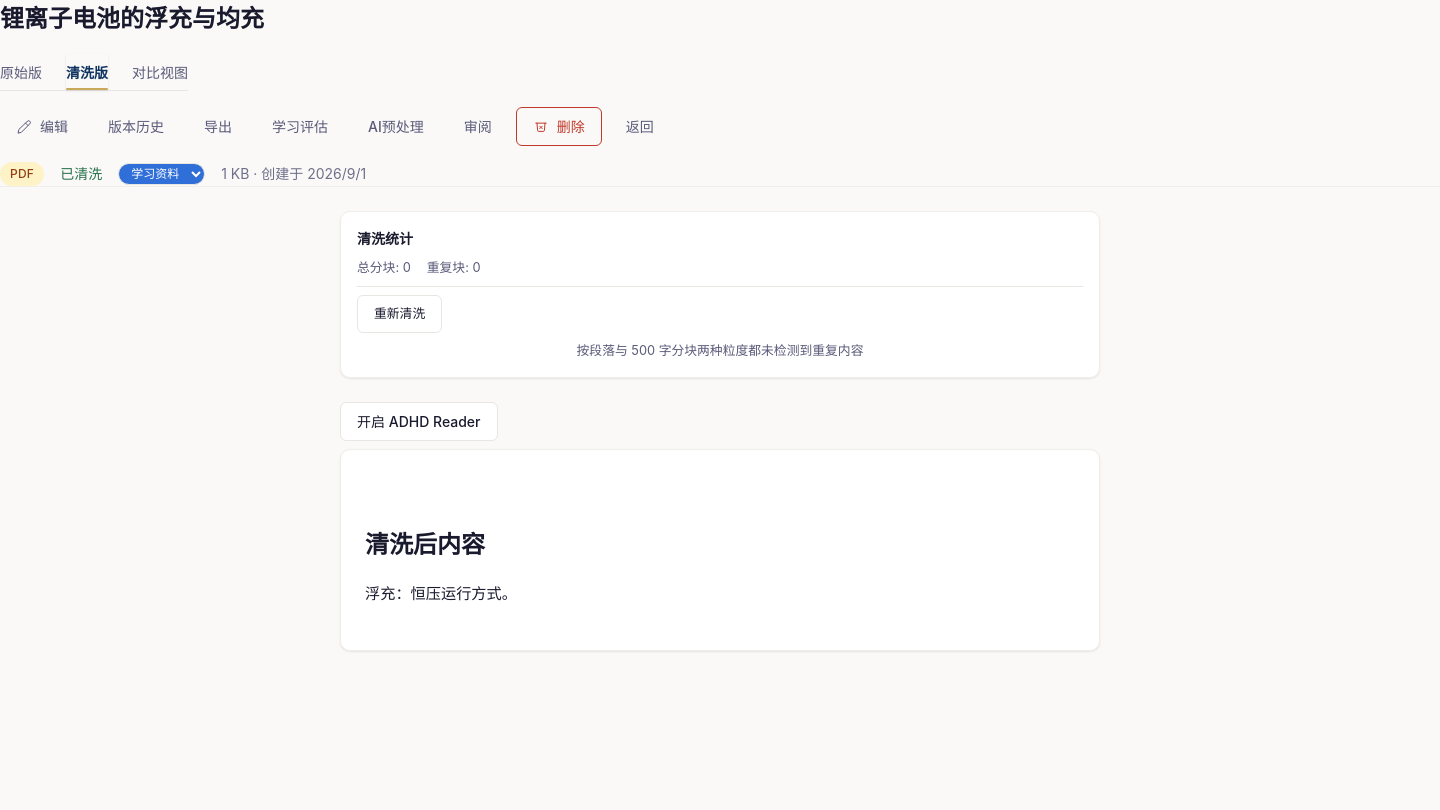
Test case: 删除与重新理解 › ★ 删除必须先确认：点"删除"只弹窗、不调接口
Expected: the heading "锂离子电池的浮充与均充" is shown, [0,0,264,38]
按钮文案是"删除"，"移入回收站"是弹窗标题
Click the button "删除" at (559, 127), box [516,107,602,146]
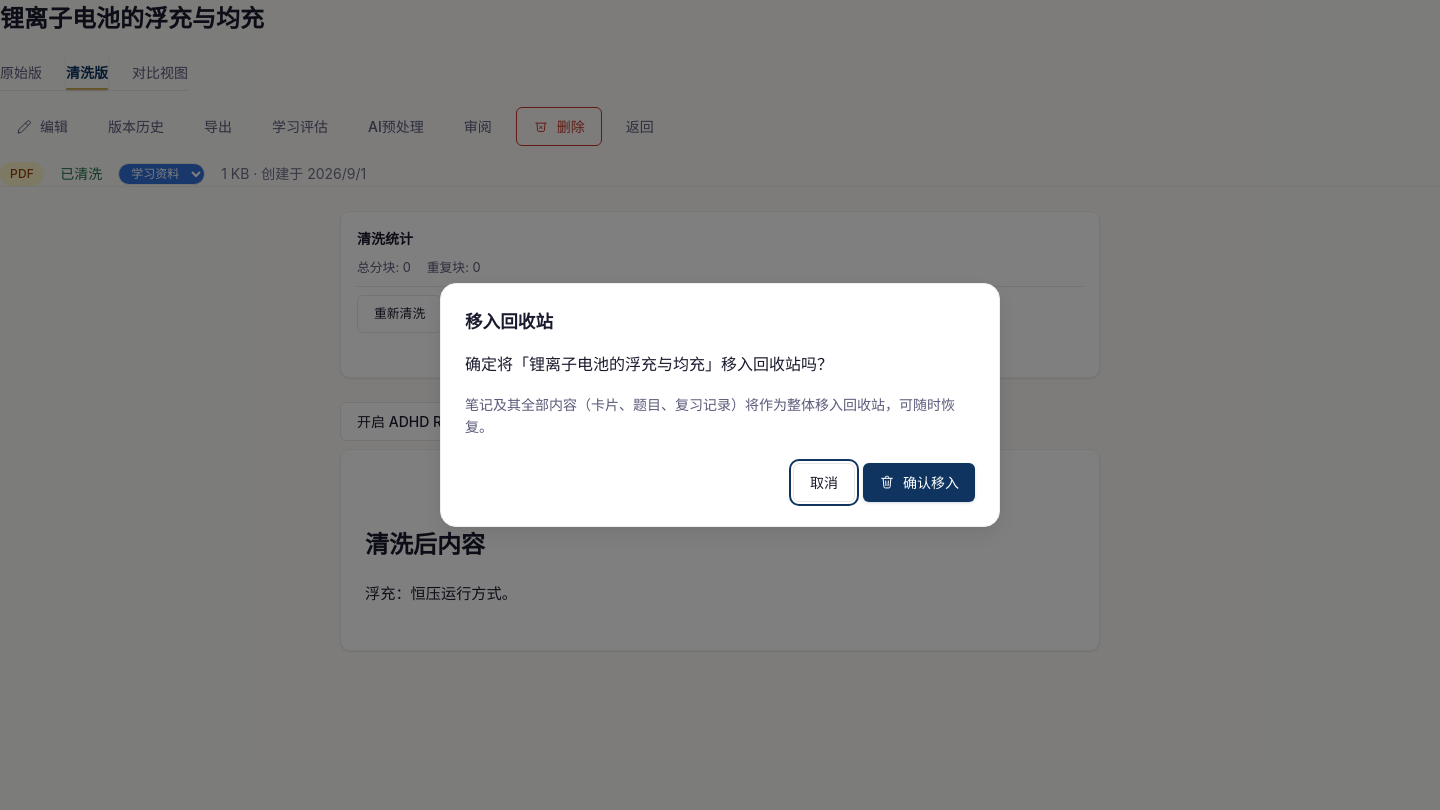
Result: the heading "移入回收站" is shown at [465,311,553,332]
